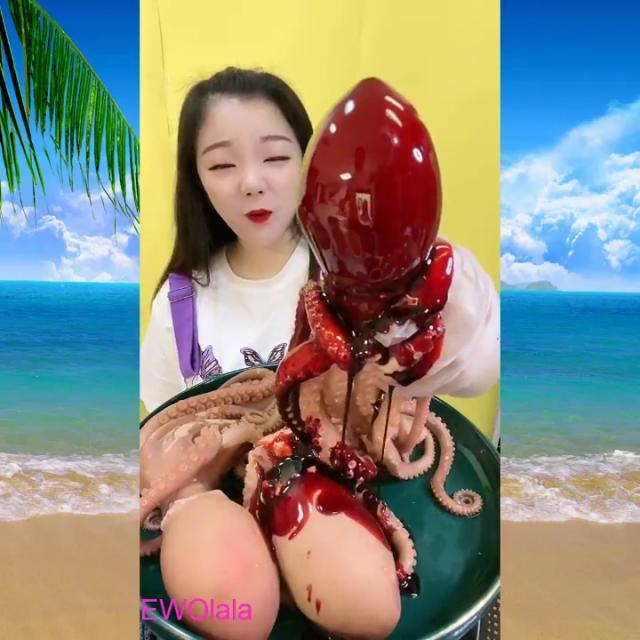octopus: (286, 68, 484, 521)
